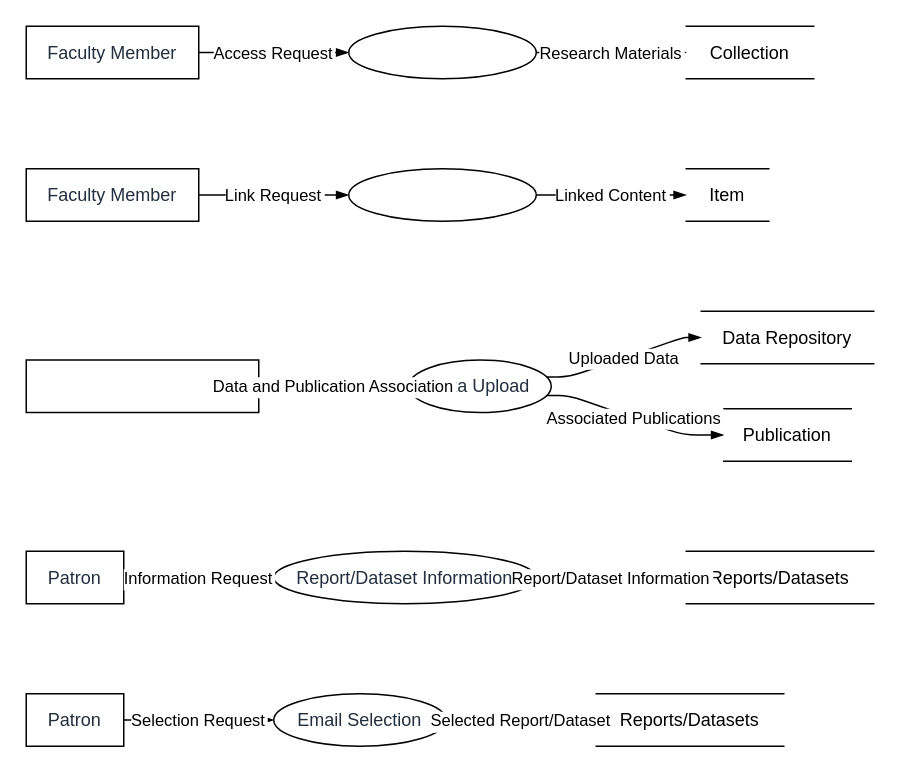
Some shapes in this 900 by 773 pixel diagram are drawn without their labels. Each missing label, with the box of its shape:
Cornell Faculty Member: (25, 358, 259, 412)
Linking to Content: (347, 167, 536, 221)
Repository Access: (347, 25, 536, 79)
